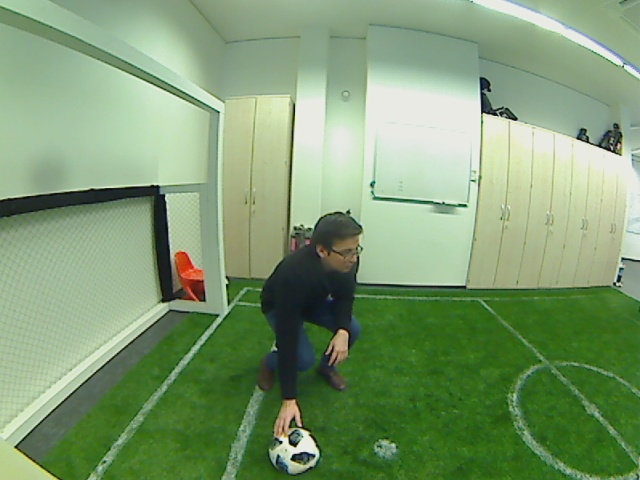ball: (265, 424, 323, 475)
